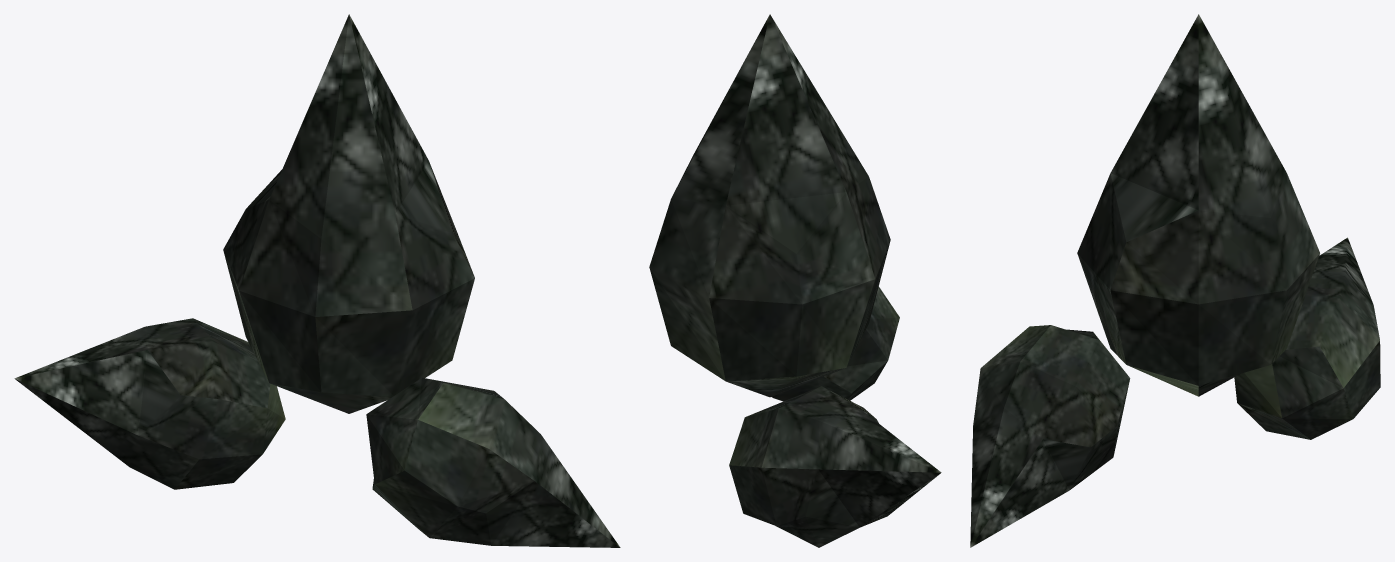
Rendered from NASIONO30.glb.
3 renders of one model, left to right at view 1: azimuth 30°, elevation 25°; view 2: azimuth 150°, elevation 25°; view 3: azimuth 270°, elevation 25°, orthographic. The views are drawn at different scales.
Parts seen in each view (by area): view 1: NASIONO30; view 2: NASIONO30; view 3: NASIONO30.
Boxes of the visible parts, left/top/right/bottom form: NASIONO30: left=14, top=14, right=620, bottom=547; NASIONO30: left=649, top=14, right=941, bottom=547; NASIONO30: left=970, top=14, right=1380, bottom=547.
Size of the model in its own units: 0.0991 by 0.1119 by 0.0899.
Materials: 1 (1 with a texture image).
